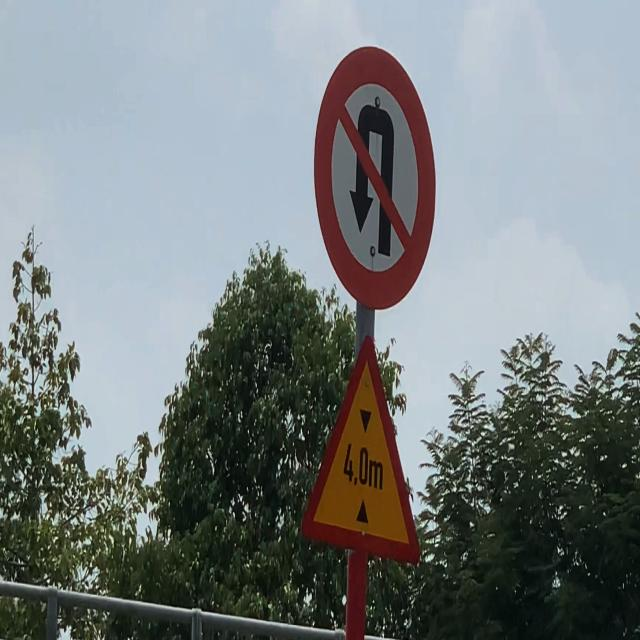Cam quay dau xe: (311, 43, 438, 312)
Nguy hiem: (300, 331, 421, 569)
